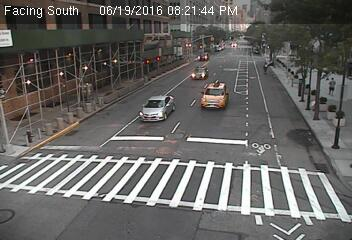neg: (76, 80, 95, 105), (20, 127, 35, 146), (105, 74, 116, 88), (143, 61, 153, 76), (153, 58, 163, 71), (231, 39, 240, 51), (184, 44, 191, 53), (254, 45, 261, 54), (216, 43, 222, 51)
pos: (324, 74, 341, 97), (260, 59, 271, 75)
